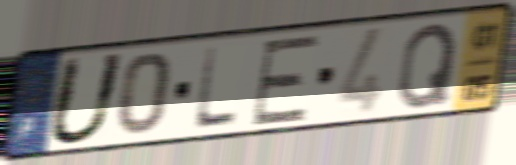0: (114, 50, 175, 137)
4: (335, 23, 387, 119)
E: (248, 31, 324, 129)
L: (190, 44, 241, 132)
Q: (394, 19, 460, 113)
U: (43, 50, 130, 149)
